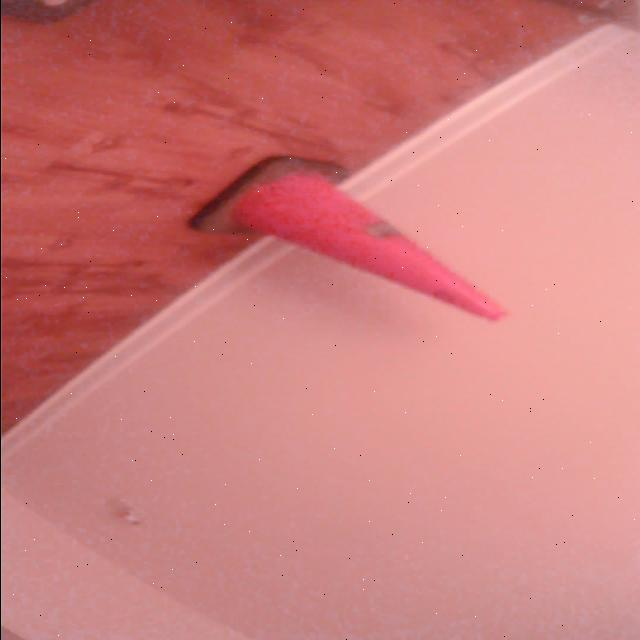traffic cone: (182, 152, 520, 327)
